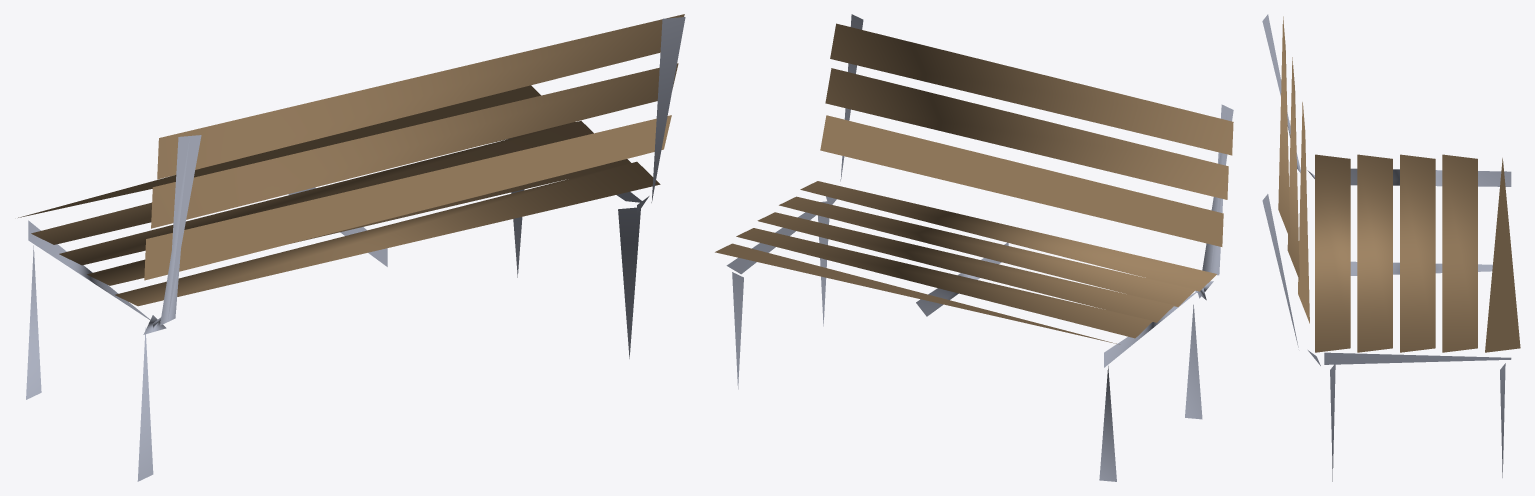
File: bench(joined)_LOD3.fbx
3 views of the same model, side by side, from view 1: azimuth 30°, elevation 25°; view 2: azimuth 150°, elevation 25°; view 3: azimuth 270°, elevation 25° (orthographic). The views are drawn at different scales.
Parts seen in each view (by area): view 1: Cube.002; view 2: Cube.002; view 3: Cube.002.
Part boxes in pixels (x1,y1,x2,y2): Cube.002: [18, 14, 685, 481]; Cube.002: [715, 14, 1233, 481]; Cube.002: [1262, 14, 1520, 481].
Bounding box in the file's own units: 540 × 370 × 304.
